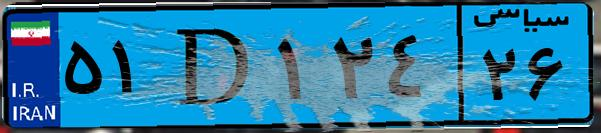1: (270, 28, 330, 110), (110, 28, 158, 98)
2: (330, 28, 385, 110), (475, 38, 525, 113)
4: (385, 28, 445, 110)
5: (57, 26, 110, 100)
6: (525, 38, 570, 115)
D: (158, 12, 270, 120)
